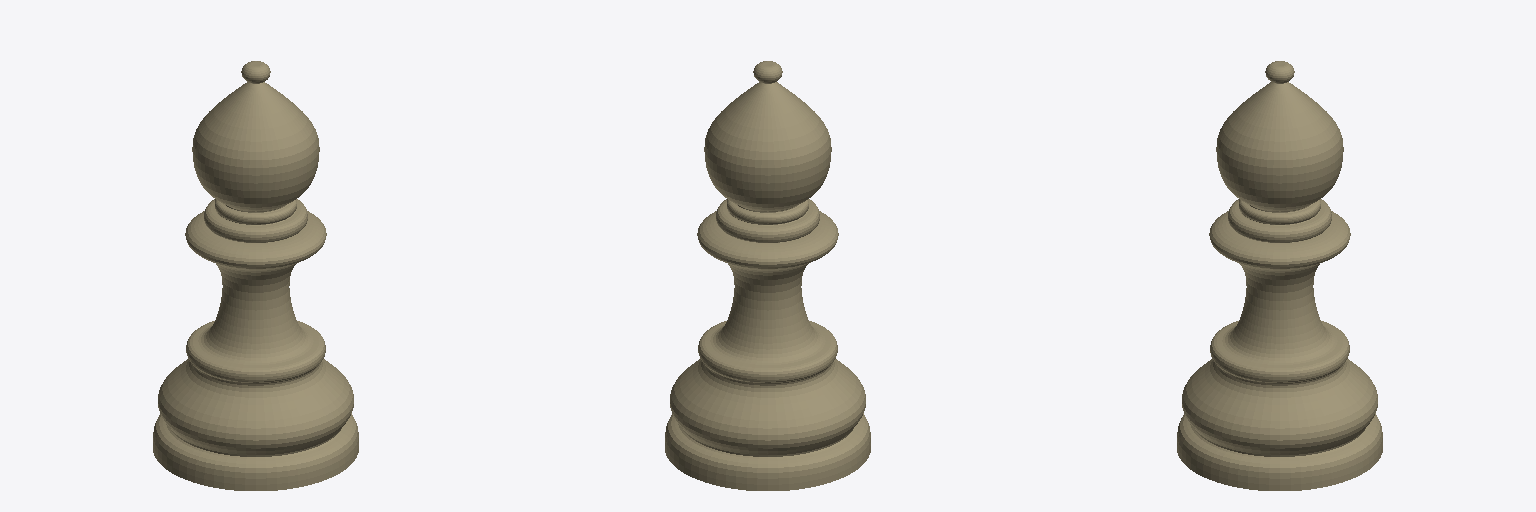
File: bishop.obj
3 renders of one model, left to right at view 1: azimuth 30°, elevation 25°; view 2: azimuth 150°, elevation 25°; view 3: azimuth 270°, elevation 25°, orthographic.
Visible parts, largest first — view 1: Circle.009; view 2: Circle.009; view 3: Circle.009.
Part boxes in pixels (left/top/right/bottom): Circle.009: left=153, top=61, right=358, bottom=490; Circle.009: left=665, top=61, right=870, bottom=490; Circle.009: left=1177, top=61, right=1382, bottom=490.
Size of the model in its own units: 1.44 by 2.95 by 1.44.